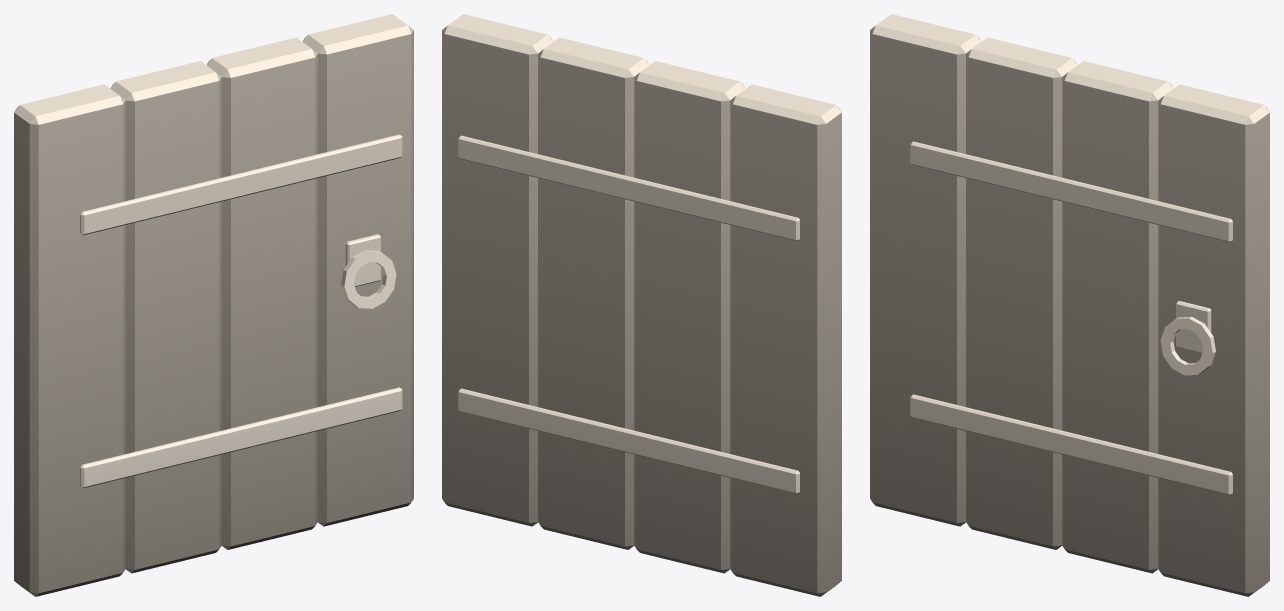
Rendered from SM_VKI_Leaf_Wide160_Cut_L.fbx.
The picture shows the model from 3 angles, left to right: view 1: azimuth 30°, elevation 25°; view 2: azimuth 150°, elevation 25°; view 3: azimuth 330°, elevation 25°; orthographic projection.
Visible parts, largest first — view 1: SM_VKI_Leaf_Wide160_Cut_L.001; view 2: SM_VKI_Leaf_Wide160_Cut_L.001; view 3: SM_VKI_Leaf_Wide160_Cut_L.001.
Part boxes in pixels (box(x1,y1,x2,y2)): SM_VKI_Leaf_Wide160_Cut_L.001: box(14, 14, 413, 596); SM_VKI_Leaf_Wide160_Cut_L.001: box(442, 14, 841, 596); SM_VKI_Leaf_Wide160_Cut_L.001: box(870, 14, 1269, 596).
Size of the model in its own units: 0.795 by 0.95 by 0.1309.
